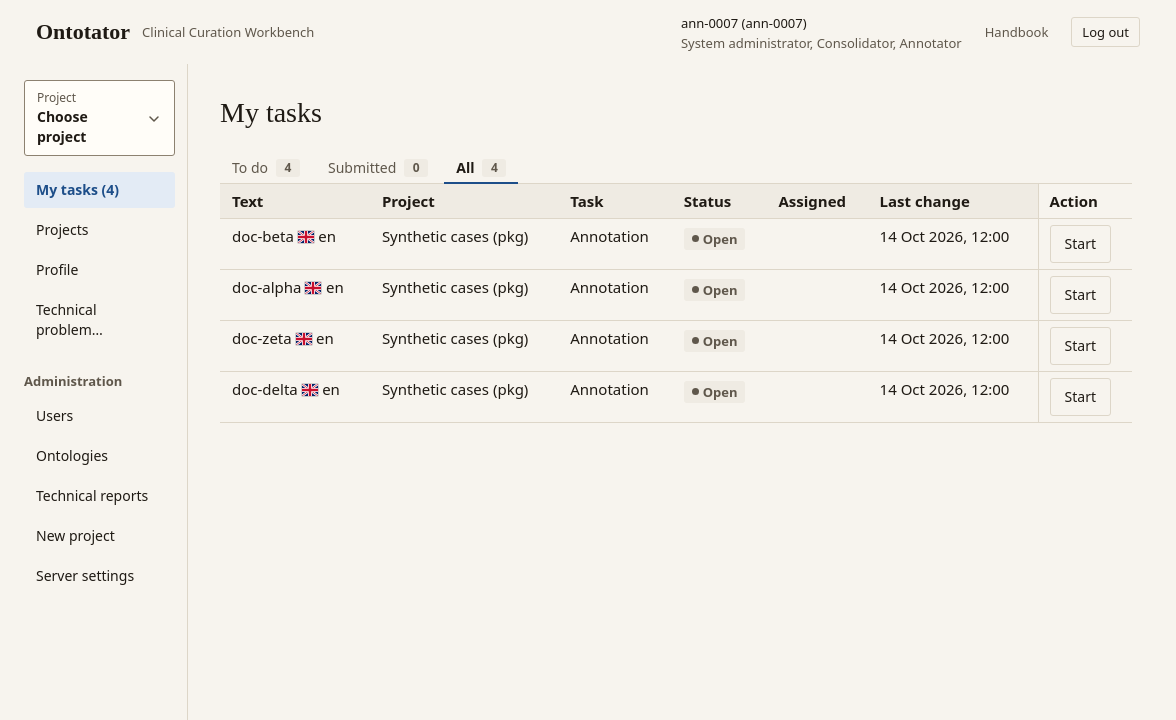
Test case: assignment App presentation positions › passes human ordinals to the real CaseScreen navigation in independent mode
Expected: the table named "My tasks" is shown, x1=220 y1=184 x2=1132 y2=423
Click the link "Start" in the row of "doc-beta": (1080, 244) x1=1050 y1=225 x2=1111 y2=263
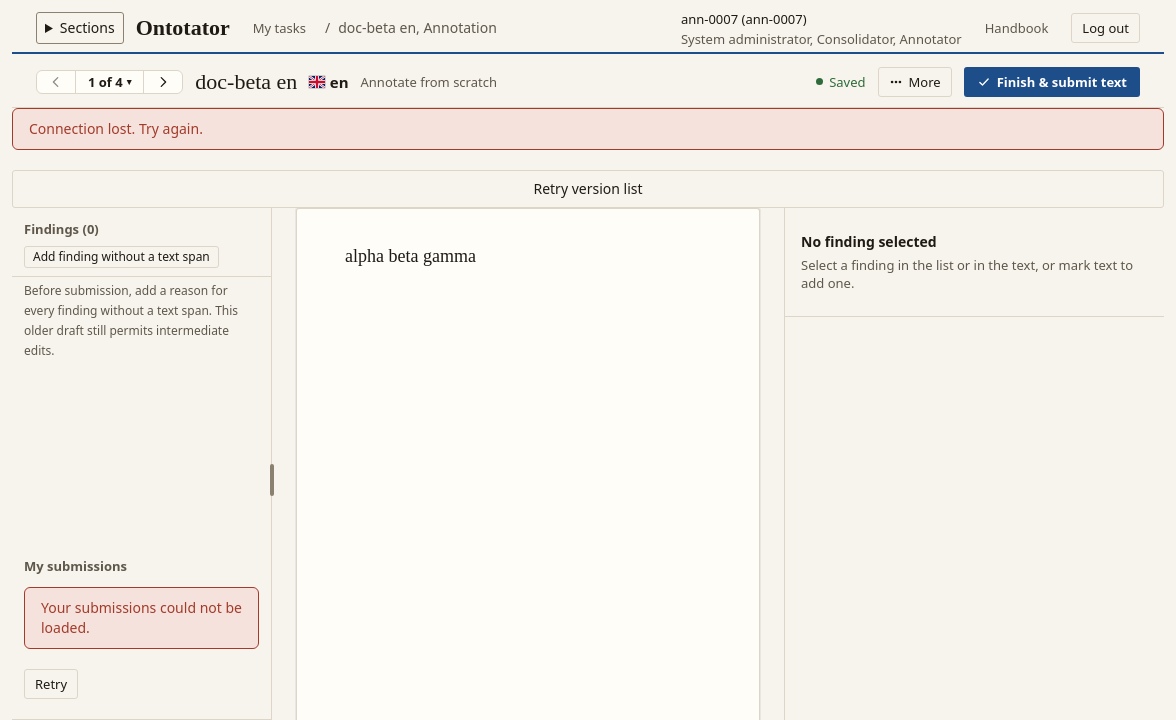
Result: the button named "Previous text" is disabled at x1=37 y1=70 x2=75 y2=92
Click the button named "Next text": (163, 82) x1=144 y1=70 x2=182 y2=92
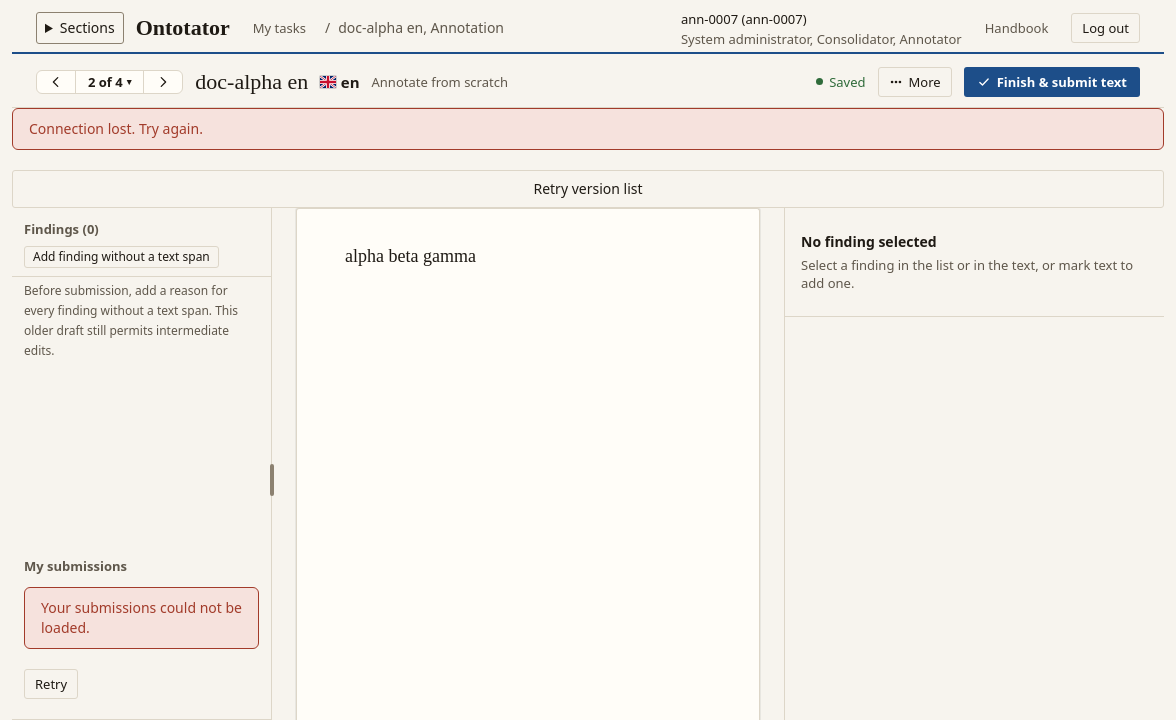
Click the button named "Next text": (163, 82) x1=144 y1=70 x2=182 y2=92
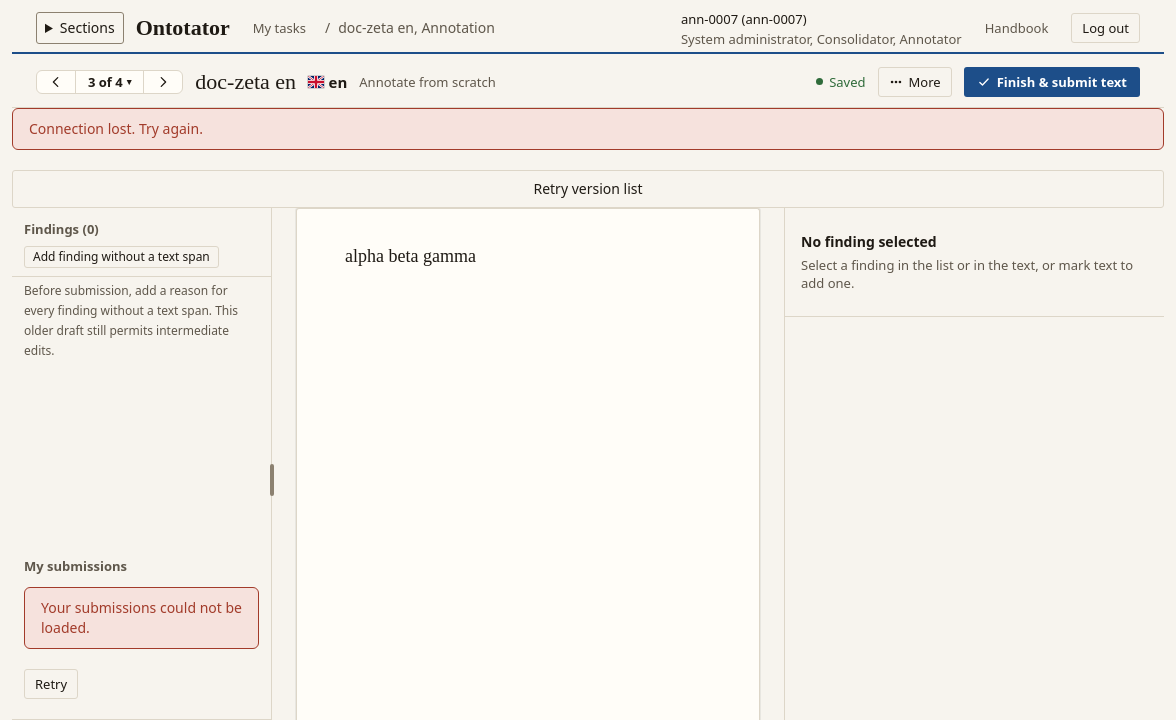
Click the button named "Next text": (163, 82) x1=144 y1=70 x2=182 y2=92
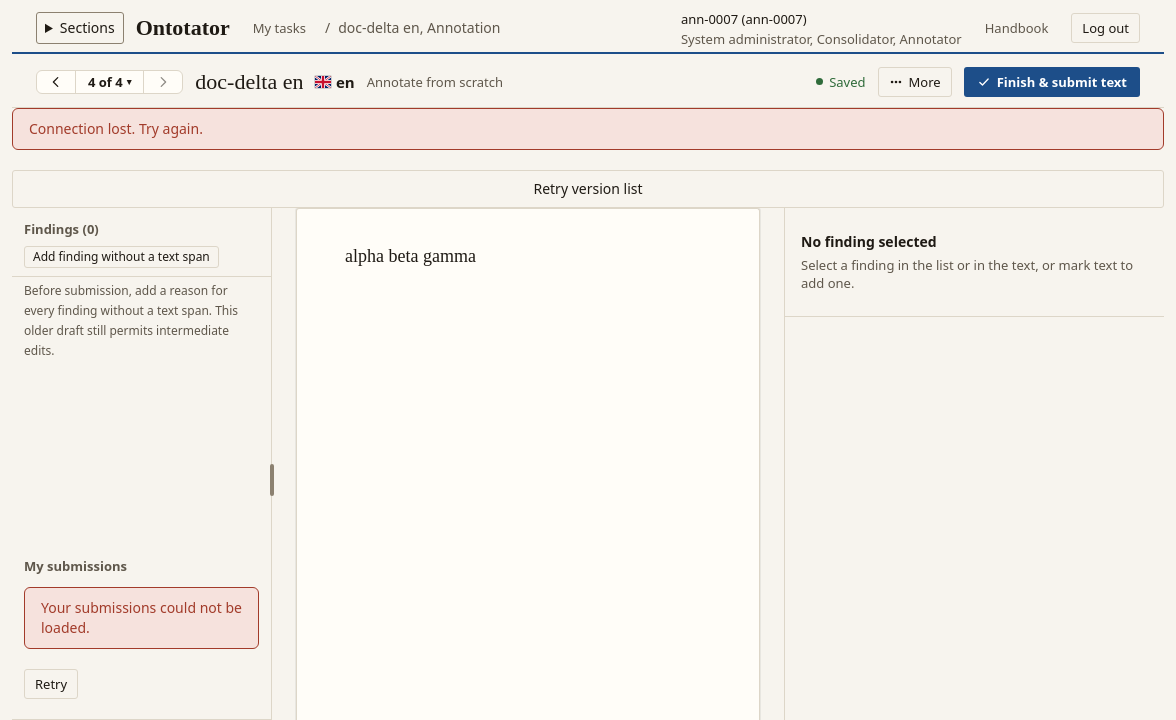
Result: the button named "Next text" is disabled at x1=144 y1=70 x2=182 y2=92
